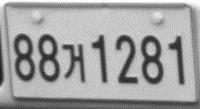1: (167, 34, 186, 85), (91, 33, 109, 84)
2: (115, 34, 138, 84)
8: (140, 34, 164, 84), (12, 32, 35, 81), (37, 33, 60, 82)
거: (62, 43, 85, 82)
